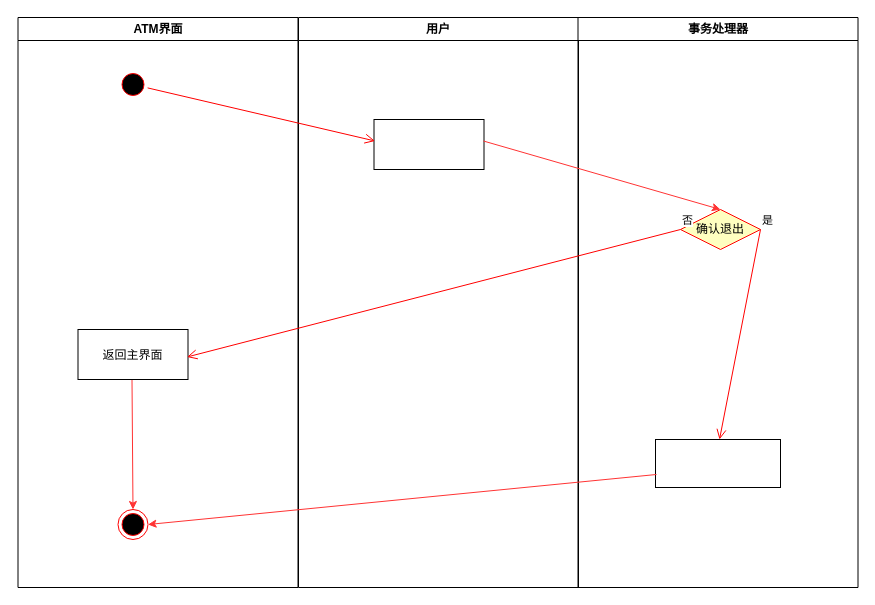
Some shapes in this 875 by 605 pixel diagram are drawn without their labels. Here are the shapes that lost their labels. From the top down, the centre of each, then its label:
At point (428, 144): "选择退出系统".
At point (717, 463): "退出登录状态并 退还银行卡".
